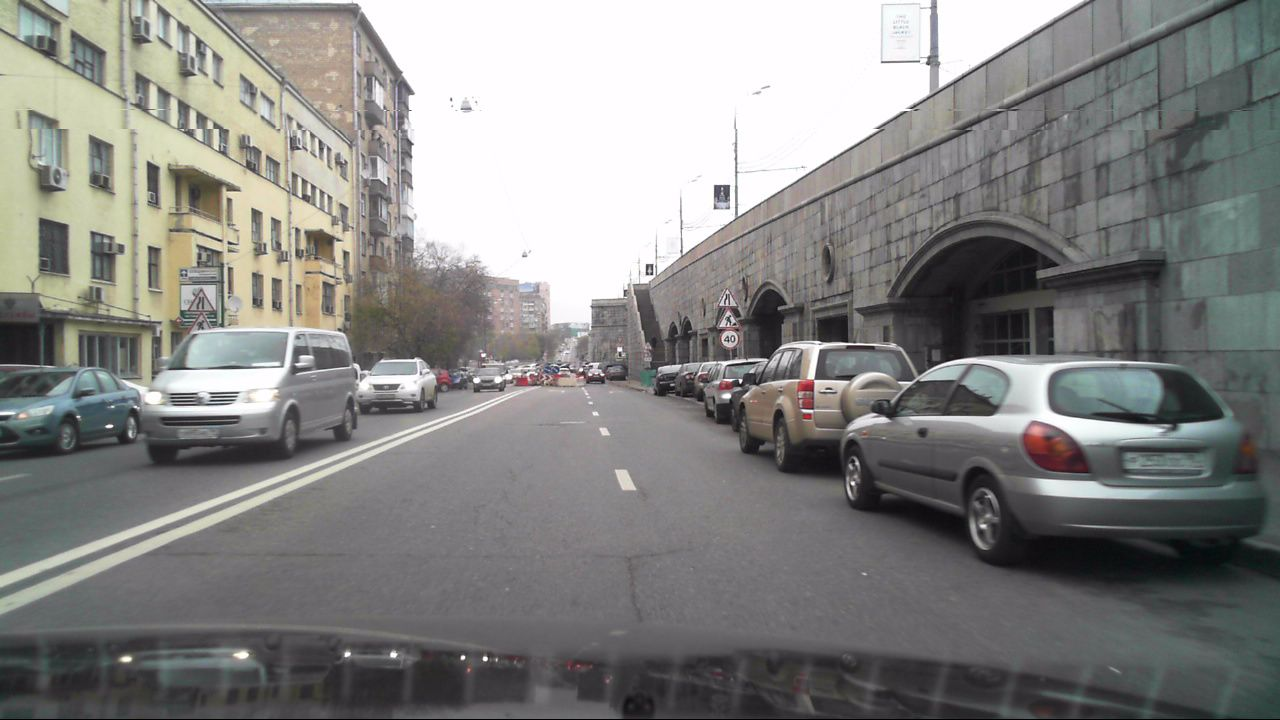speed_warning_40: (719, 329, 740, 350)
